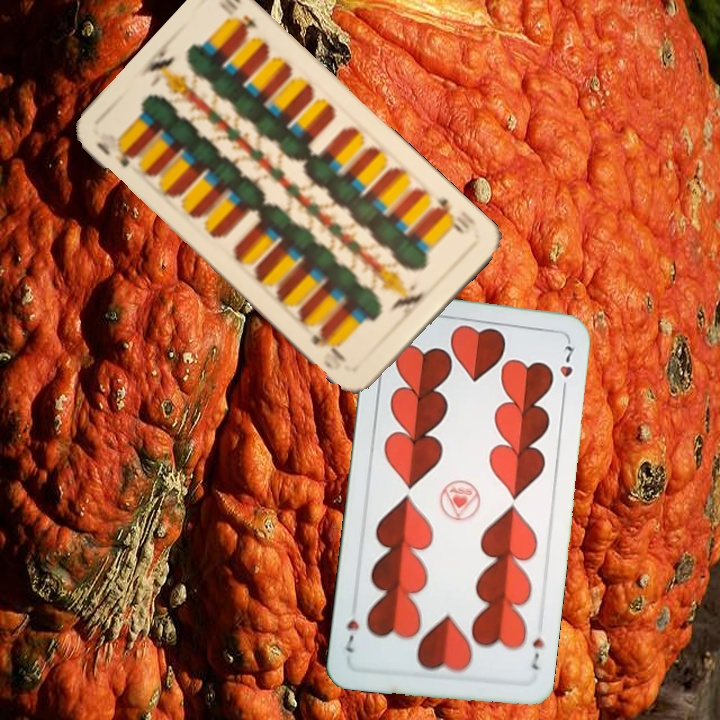E10: (427, 193, 473, 237), (92, 136, 138, 170)
H7: (528, 634, 547, 673)
